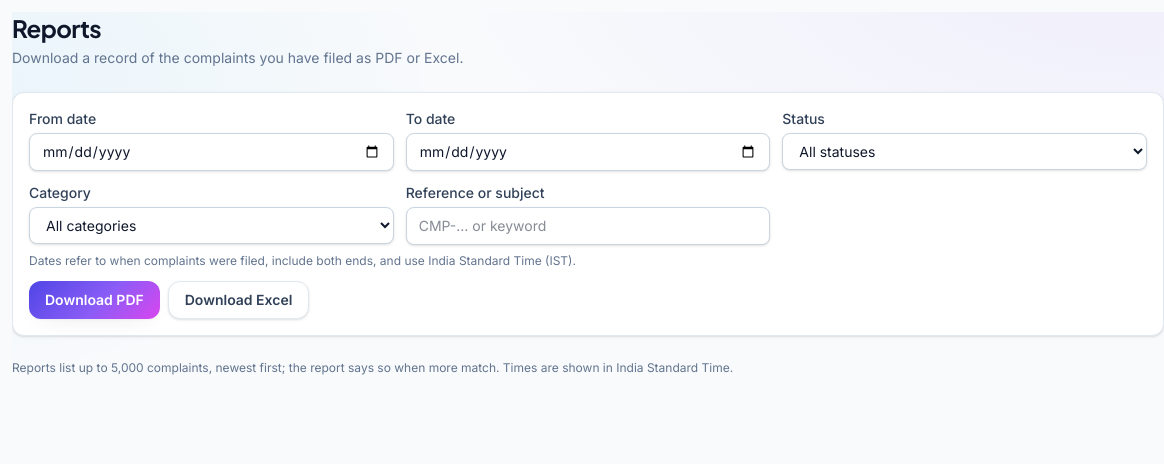
shows the server error when a download fails
What coordinates should you click on to do the following:
click the button "Download Excel"
I would click on:
 (239, 300)
Its box is [168,281,309,319].
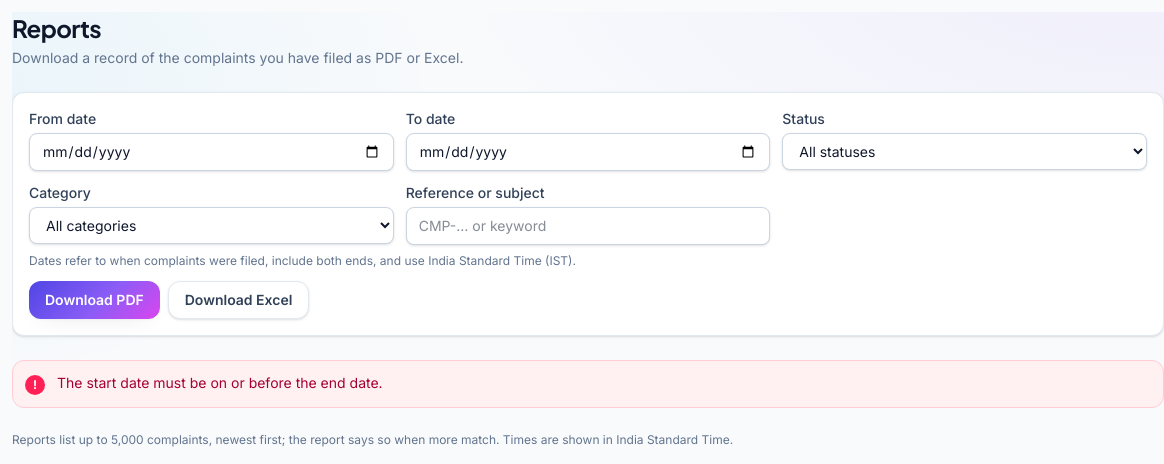
Expected: the message shows "The start date must be on or before the end date.", [57,374,383,391]
